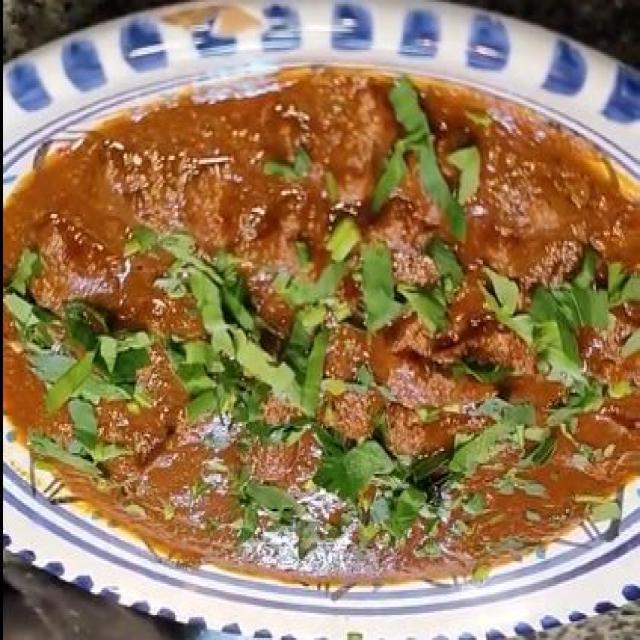kamouniya: (19, 110, 625, 592)
